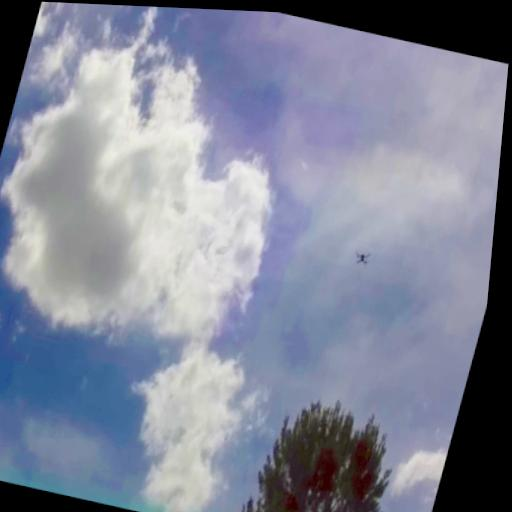drones: (349, 243, 376, 273)
